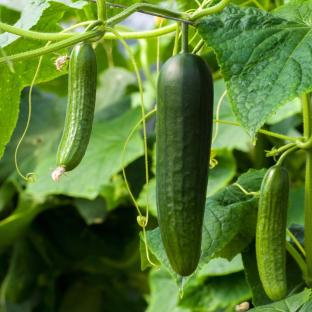Cucumber: (156, 49, 213, 276), (57, 43, 97, 171), (256, 166, 289, 300)
